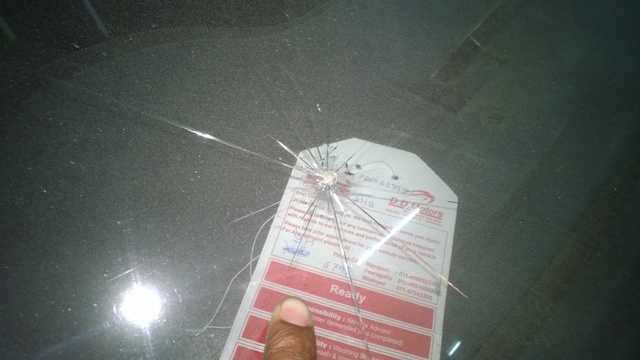Shatter: (262, 128, 376, 216)
